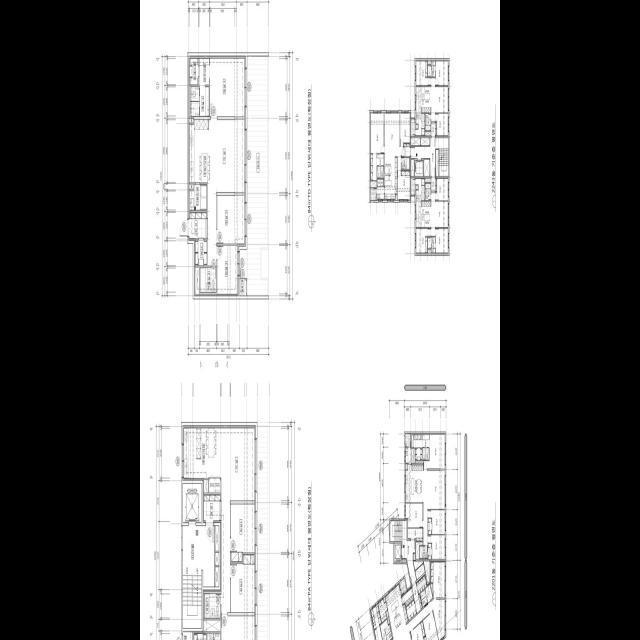background: (140, 0, 500, 640)
space_balconi: (399, 577, 407, 594), (405, 433, 411, 446)
space_bedroom: (210, 55, 246, 116), (231, 554, 256, 612), (231, 504, 256, 562), (217, 195, 245, 245), (217, 245, 238, 295), (221, 615, 256, 640), (424, 433, 445, 468), (371, 113, 384, 153), (431, 561, 445, 597), (423, 611, 438, 640), (428, 509, 445, 534), (405, 503, 422, 527), (428, 535, 445, 559), (397, 170, 410, 199), (416, 60, 431, 85), (416, 228, 431, 252), (435, 60, 448, 85), (400, 113, 410, 145), (436, 228, 448, 252), (411, 620, 425, 640), (436, 178, 448, 200), (436, 113, 448, 135), (428, 518, 432, 534), (428, 543, 432, 559)
space_dressroom: (199, 55, 209, 84), (370, 603, 381, 629), (189, 55, 198, 84), (371, 153, 377, 180), (412, 434, 422, 447), (193, 631, 206, 640), (415, 448, 422, 459)
space_elevator: (183, 483, 201, 519), (394, 543, 401, 562), (415, 160, 423, 175)
space_elevator_hall: (384, 520, 416, 584), (183, 523, 214, 586), (411, 137, 439, 175)
space_front: (189, 212, 207, 239), (203, 494, 220, 522), (194, 239, 207, 265), (412, 582, 422, 613), (416, 574, 427, 593), (406, 600, 416, 620), (408, 528, 423, 541), (431, 177, 437, 191), (431, 122, 437, 135), (404, 143, 410, 156)
space_kitchen: (183, 425, 221, 479), (189, 119, 209, 182), (385, 583, 408, 637), (416, 86, 431, 135), (416, 177, 431, 226), (405, 463, 423, 502), (385, 156, 397, 198)
space_living_room: (220, 425, 256, 612), (208, 119, 245, 265), (393, 599, 445, 640), (423, 470, 445, 545), (384, 113, 404, 169), (431, 77, 448, 121), (431, 192, 448, 235)
space_multipurpose_space: (189, 184, 207, 209)
space_other: (402, 587, 414, 606), (378, 598, 387, 622), (203, 620, 221, 631), (415, 563, 425, 579), (209, 478, 220, 492), (376, 179, 384, 198), (405, 447, 415, 462), (423, 561, 430, 582), (194, 267, 199, 295), (416, 541, 422, 559), (215, 525, 219, 550), (424, 159, 430, 175), (413, 561, 423, 570), (215, 567, 219, 586), (411, 137, 420, 145), (421, 137, 430, 145), (203, 479, 208, 492), (436, 149, 438, 176), (215, 552, 219, 565), (411, 159, 414, 175), (386, 610, 389, 624), (430, 583, 433, 595), (371, 181, 377, 186), (425, 177, 431, 182), (425, 131, 431, 135), (383, 596, 386, 602), (189, 184, 193, 188), (189, 118, 193, 122), (415, 460, 423, 462), (405, 464, 408, 469), (402, 559, 407, 562), (413, 553, 415, 559), (428, 60, 431, 64), (395, 194, 397, 199), (428, 249, 431, 252), (416, 124, 418, 128), (416, 185, 418, 189)
space_outdoor_room: (240, 279, 246, 295), (370, 188, 376, 200), (183, 631, 191, 640), (411, 118, 415, 135), (411, 177, 415, 194)
space_staircase: (183, 569, 201, 628), (439, 137, 448, 175), (390, 520, 402, 531)
space_toilet: (204, 593, 220, 618), (200, 267, 216, 291), (199, 86, 209, 115), (380, 619, 392, 640), (377, 154, 384, 177), (425, 584, 433, 602), (190, 86, 199, 101), (190, 101, 199, 115), (374, 625, 382, 640), (428, 237, 435, 252), (428, 61, 435, 76), (425, 113, 431, 130), (425, 183, 431, 200), (420, 546, 428, 558), (401, 157, 409, 169), (422, 434, 429, 447), (420, 589, 426, 600), (421, 596, 427, 607), (422, 447, 426, 459), (426, 447, 429, 459)
